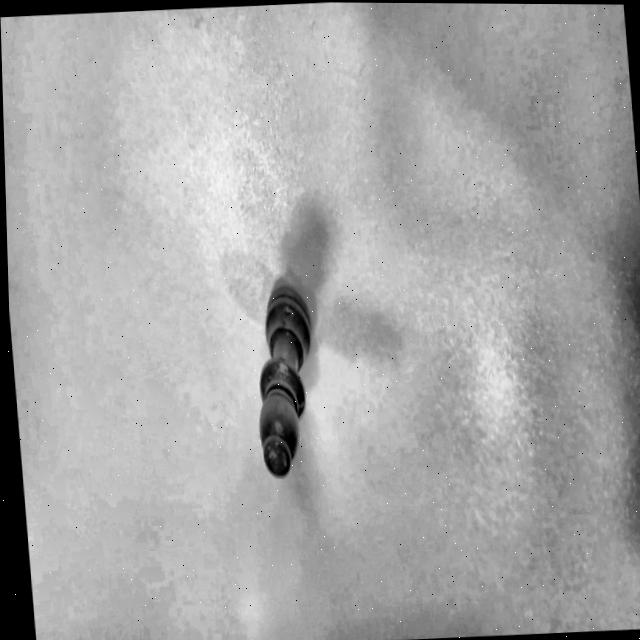black-bishop: (240, 272, 329, 489)
